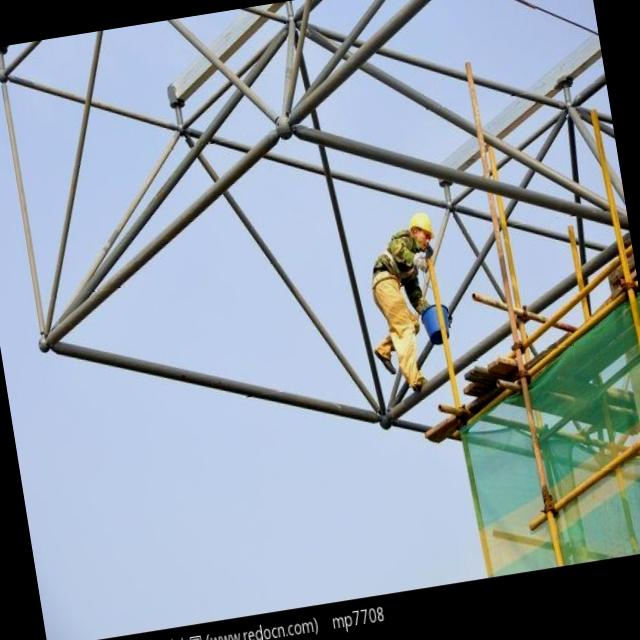helmet: (404, 204, 442, 246)
